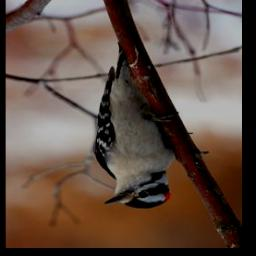Woodpecker: (95, 42, 181, 209)
